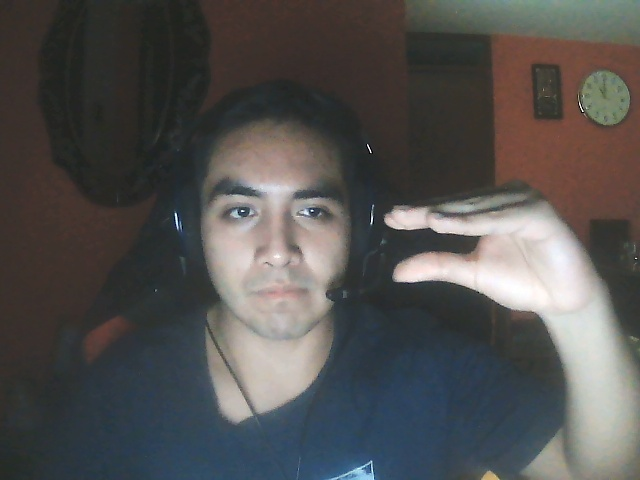no: (380, 175, 614, 315)
